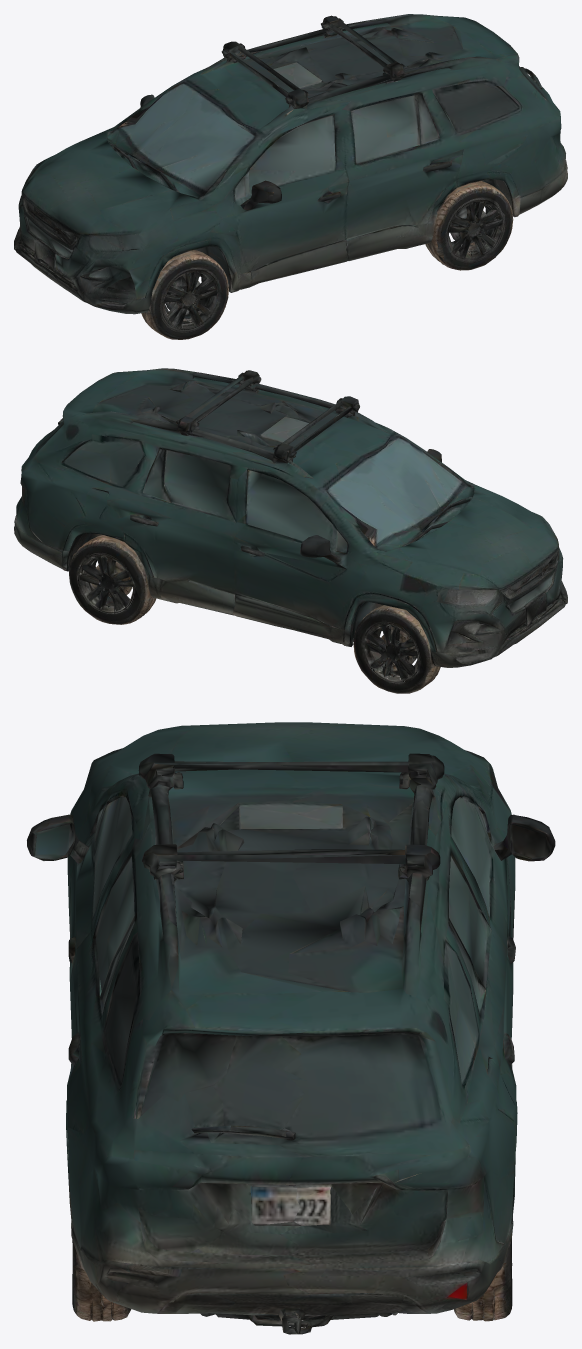
Rendered from wagon-green.glb.
3 renders of one model, top to bottom at view 1: azimuth 30°, elevation 25°; view 2: azimuth 150°, elevation 25°; view 3: azimuth 270°, elevation 25°, orthographic. The views are drawn at different scales.
Parts seen in each view (by area): view 1: mesh_node; view 2: mesh_node; view 3: mesh_node.
Part boxes in pixels (x1=…): mesh_node: x1=14, y1=14, x2=567, y2=339; mesh_node: x1=14, y1=368, x2=567, y2=693; mesh_node: x1=27, y1=722, x2=555, y2=1334.
Size of the model in its own units: 4.32 by 1.7 by 2.
Materials: 1 (1 with a texture image).
